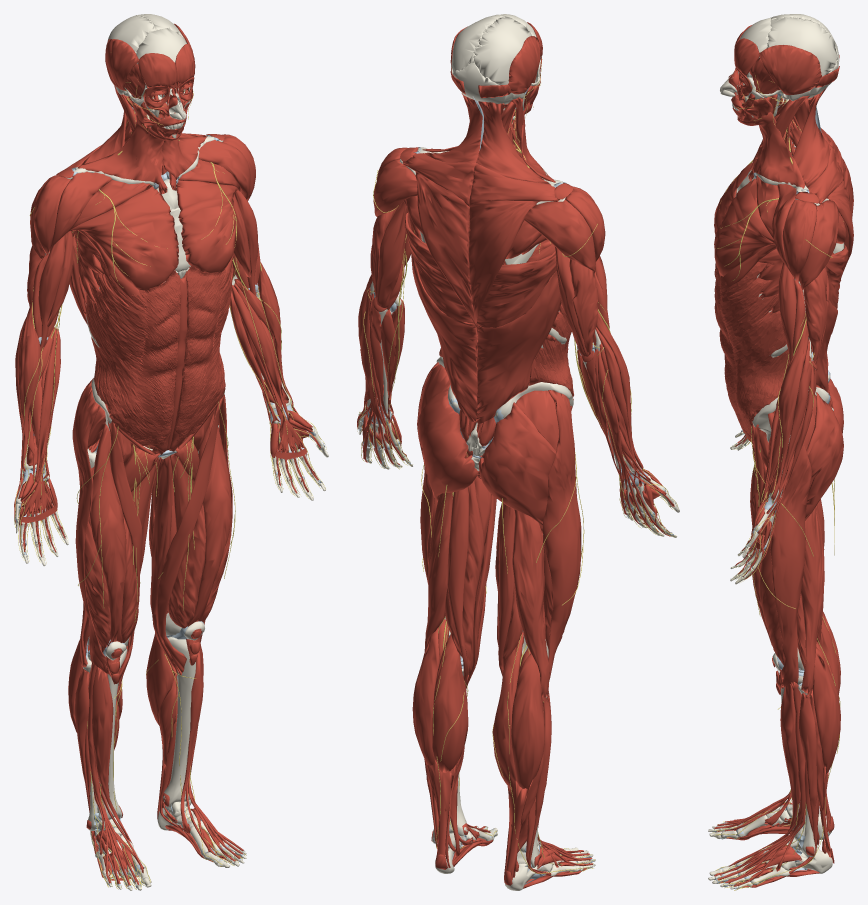
File: corps-anatomie-mobile.glb
3 renders of one model, left to right at view 1: azimuth 30°, elevation 25°; view 2: azimuth 150°, elevation 25°; view 3: azimuth 270°, elevation 25°, orthographic. The views are drawn at different scales.
Visible parts, largest first — view 1: Muscles, Os, Nerfs, Articulations; view 2: Muscles, Os, Nerfs, Articulations; view 3: Muscles, Os, Nerfs, Articulations.
Boxes of the visible parts, left/top/right/bottom form: Muscles: left=14, top=23, right=320, bottom=886; Os: left=15, top=14, right=328, bottom=890; Nerfs: left=14, top=82, right=326, bottom=889; Articulations: left=16, top=95, right=324, bottom=889; Muscles: left=357, top=22, right=674, bottom=888; Os: left=358, top=14, right=679, bottom=890; Nerfs: left=357, top=57, right=678, bottom=873; Articulations: left=358, top=87, right=675, bottom=884; Muscles: left=714, top=25, right=853, bottom=887; Os: left=708, top=14, right=844, bottom=889; Nerfs: left=712, top=75, right=843, bottom=890; Articulations: left=713, top=86, right=830, bottom=889.
Size of the model in its own units: 0.6691 by 1.7 by 0.2674.
